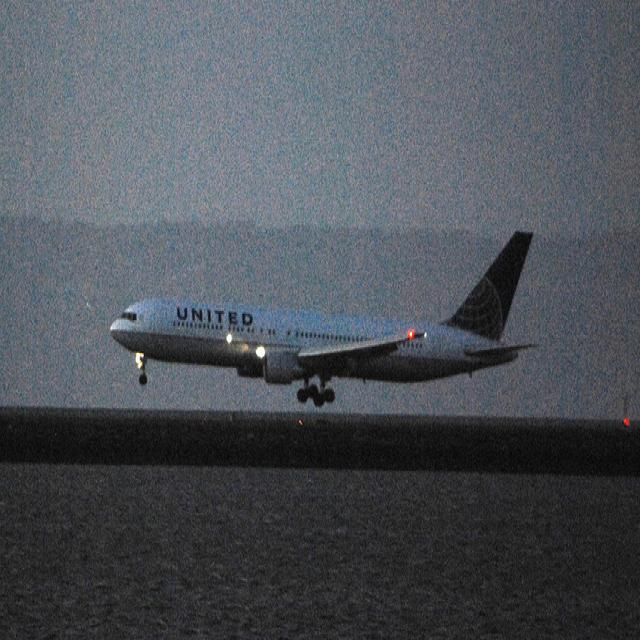airplane: (108, 227, 542, 410)
